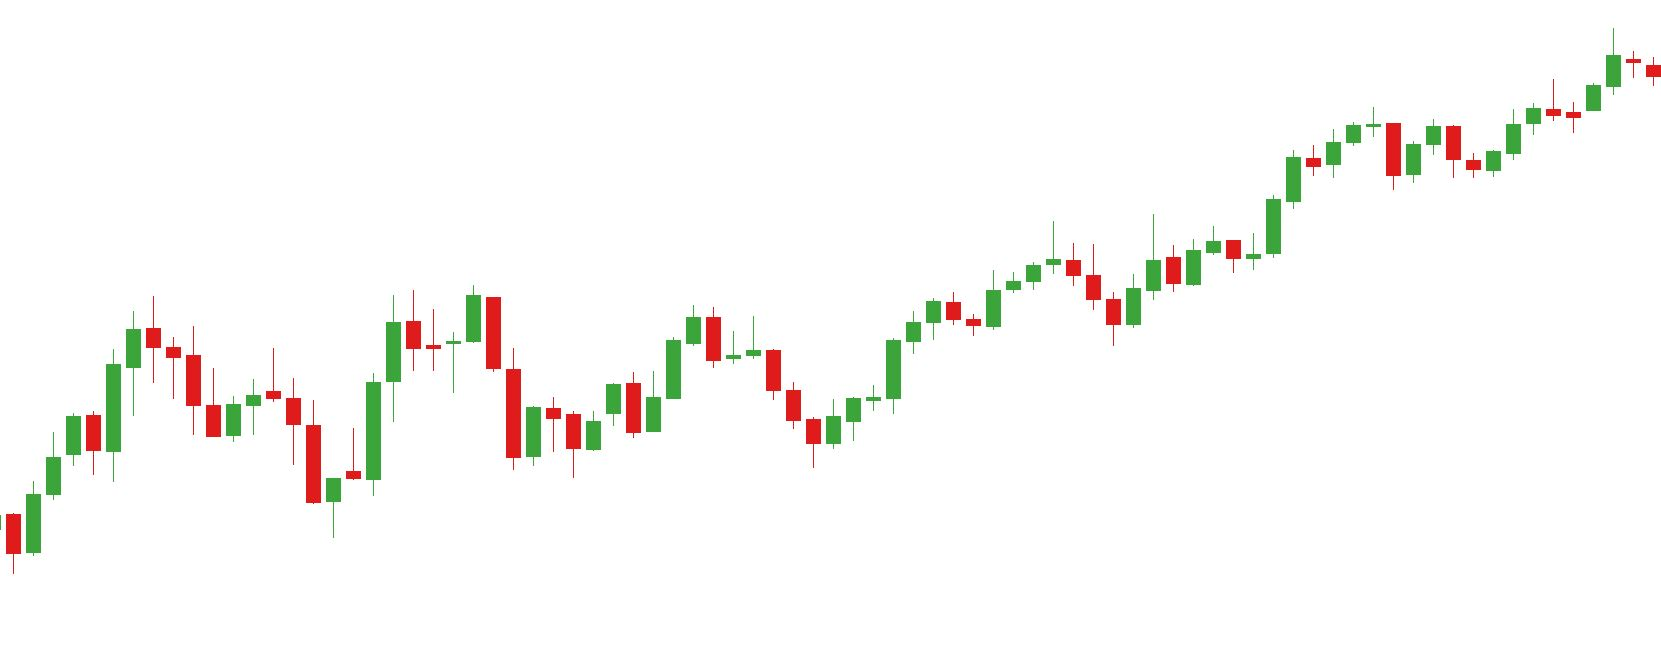buy: (83, 358, 345, 537), (622, 350, 843, 474)
